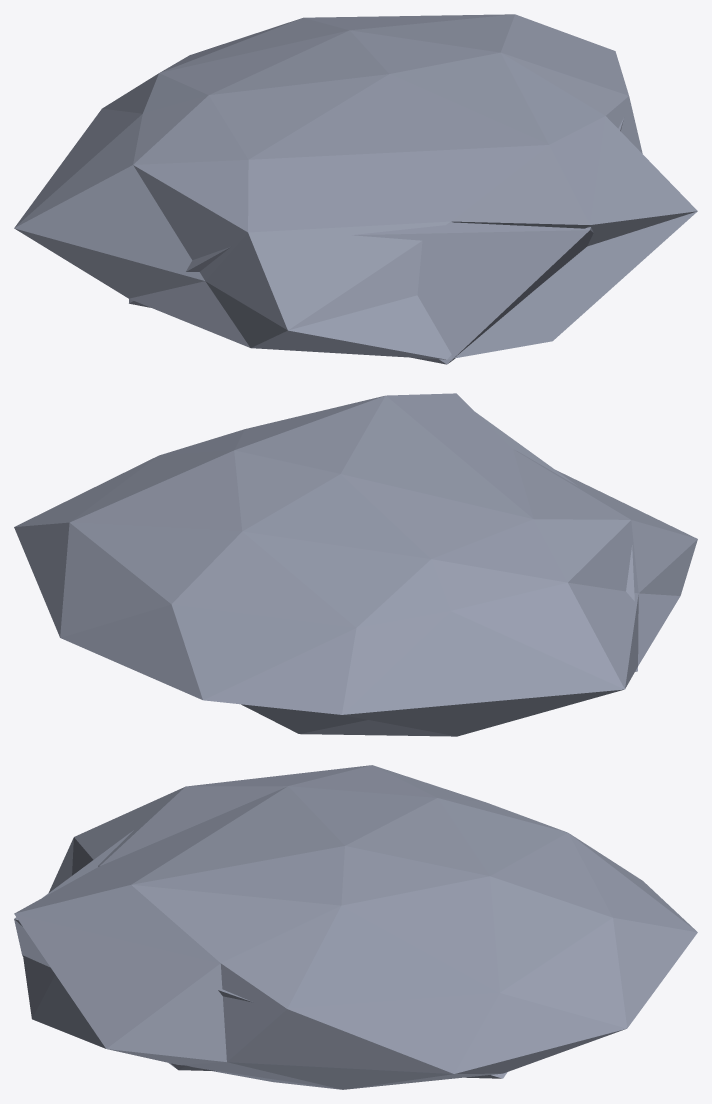
Rendered from env_rock_market_b.glb.
The picture shows the model from 3 angles, top to bottom: view 1: azimuth 30°, elevation 25°; view 2: azimuth 150°, elevation 25°; view 3: azimuth 270°, elevation 25°; orthographic projection. The views are drawn at different scales.
Parts seen in each view (by area): view 1: lod0__rock_b, lod1__rock_b; view 2: lod0__rock_b, lod1__rock_b; view 3: lod0__rock_b, lod1__rock_b.
Part boxes in pixels (x1,y1,x2,y2): lod0__rock_b: (14, 14, 697, 359); lod1__rock_b: (129, 117, 624, 364); lod0__rock_b: (14, 393, 697, 736); lod1__rock_b: (475, 412, 637, 671); lod0__rock_b: (14, 765, 697, 1089); lod1__rock_b: (14, 830, 507, 1078).
Bounding box in the file's own units: 3.23 × 0.9533 × 3.02.
